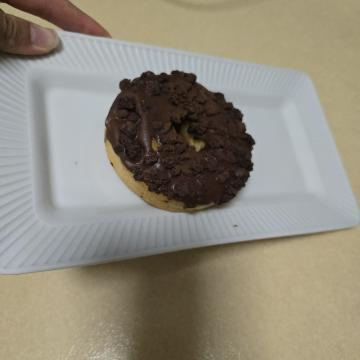doughnut: (67, 104, 221, 259)
